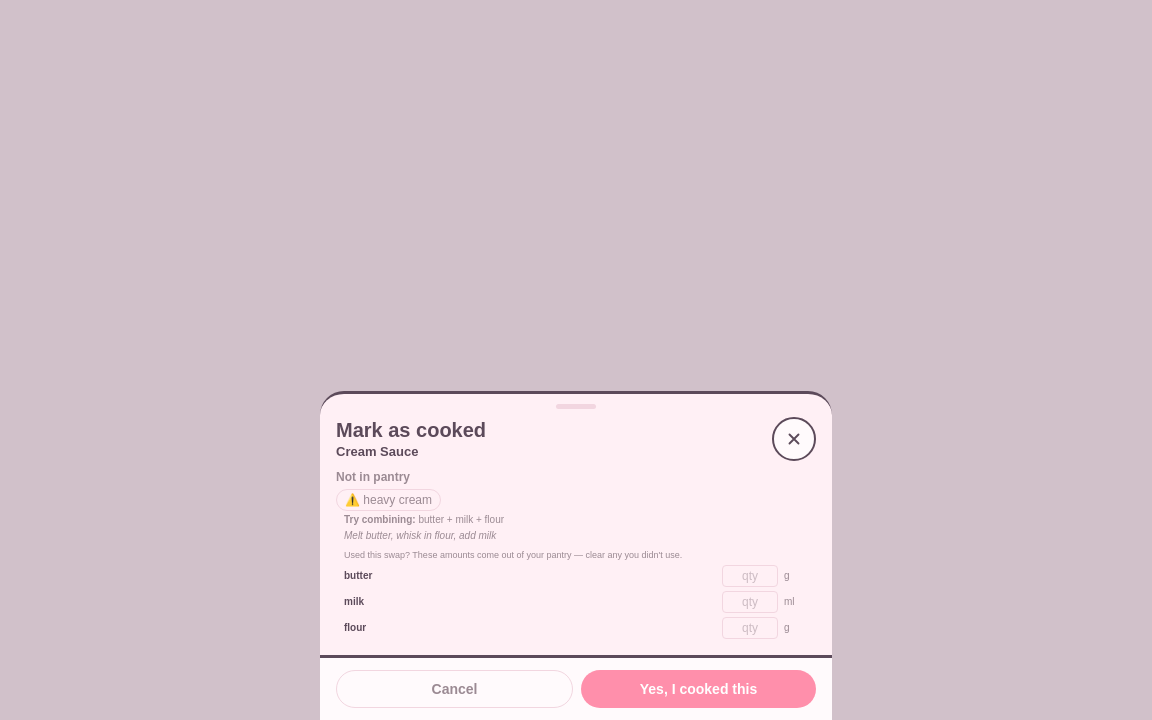
Scenario: CookModal — compound component deduction end to end (#284) › confirms with no compound deduction when the user leaves the quantity blank
Expected: the number field named "deduct quantity for butter (heavy cream substitution)" is shown, [722,565,778,587]
Click the button "Yes, I cooked this".
click(698, 689)  # box [581,670,816,708]
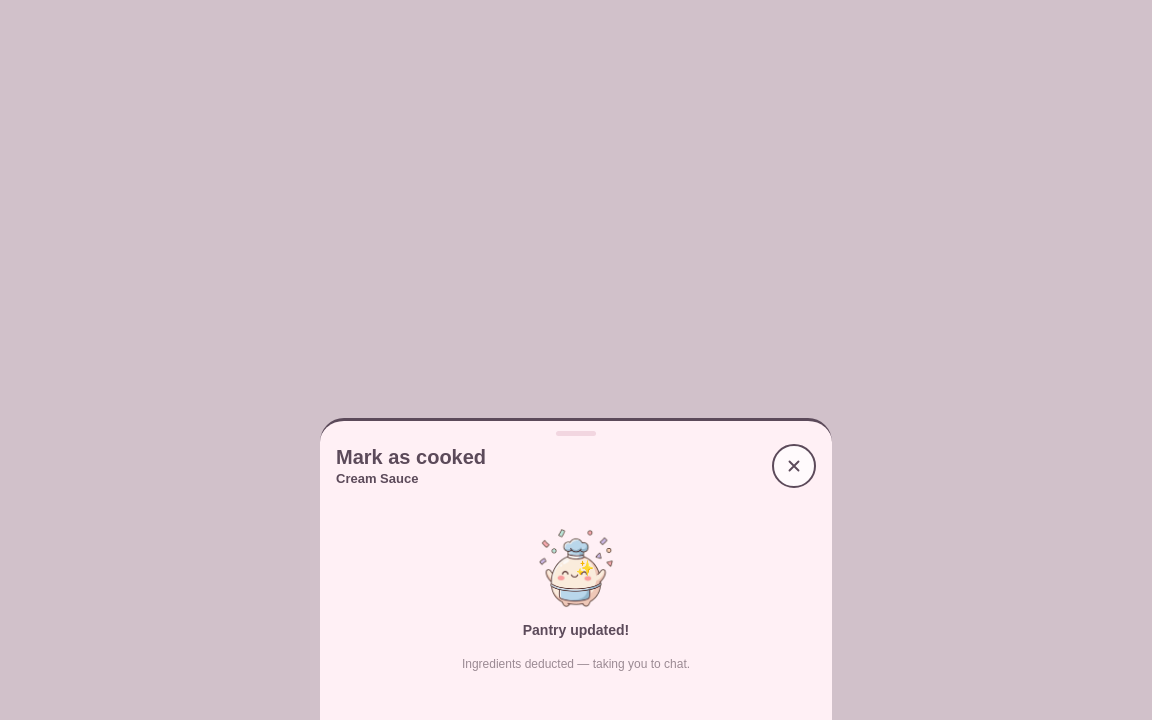
Now the text "Pantry updated!" is shown, box [523,620,629,640]
